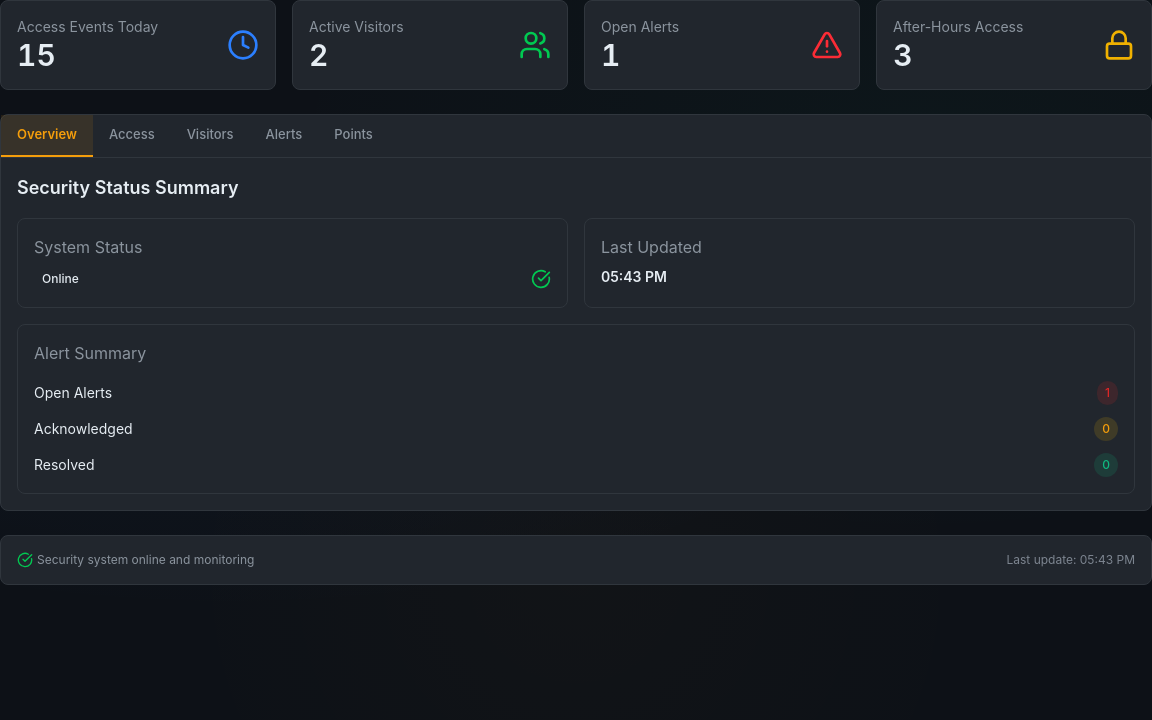
SecurityPanel › renders Visitors tab with check-in/out buttons
# Click Visitors tab
Click the tab "Visitors": {"x": 210, "y": 136} [171, 115, 250, 156]
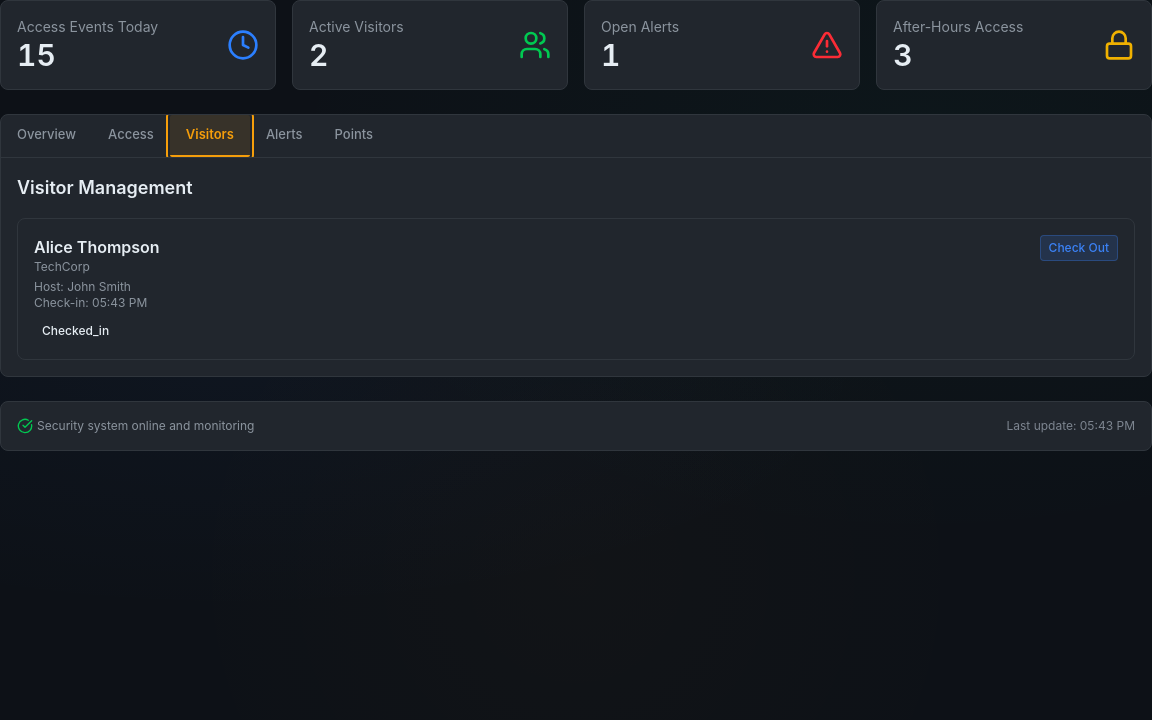
expect the text "Alice Thompson" is shown: met, box [34, 236, 160, 256]
expect the text "TechCorp" is shown: met, box [34, 258, 90, 274]
expect the button "Check Out" is shown: met, box [1040, 234, 1118, 260]
